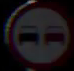No overtake: (4, 4, 66, 60)
